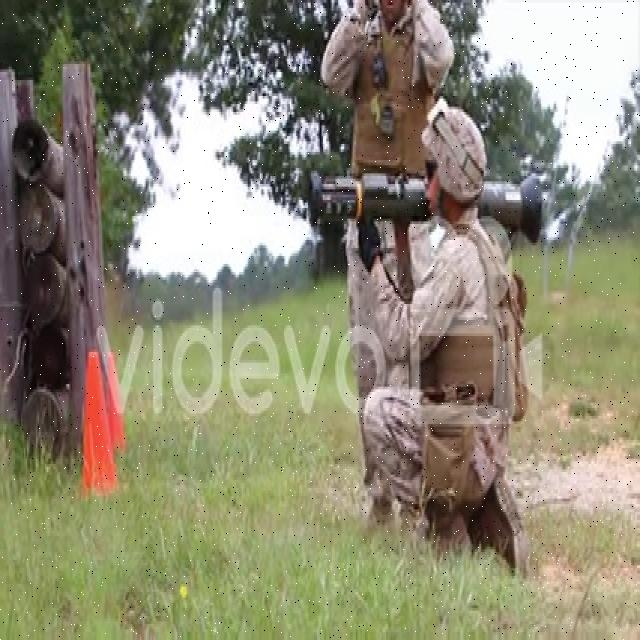bazooka: (304, 155, 550, 248)
